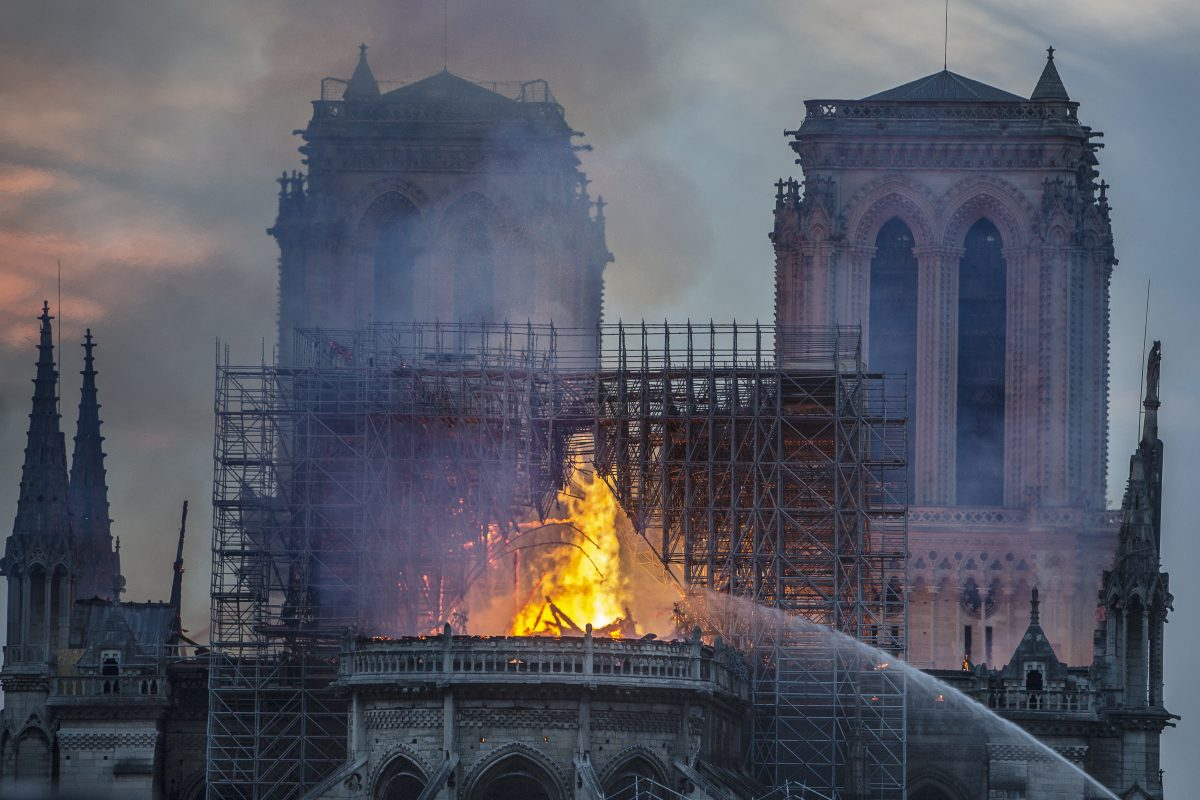Fire: (566, 479, 624, 634), (515, 562, 562, 640)
